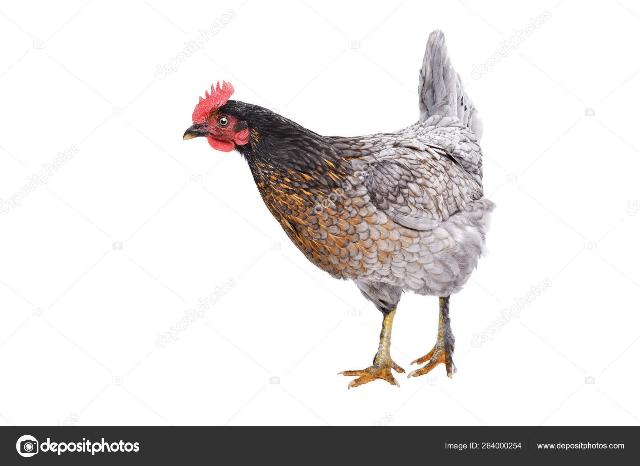Chicken: (183, 27, 496, 390)
